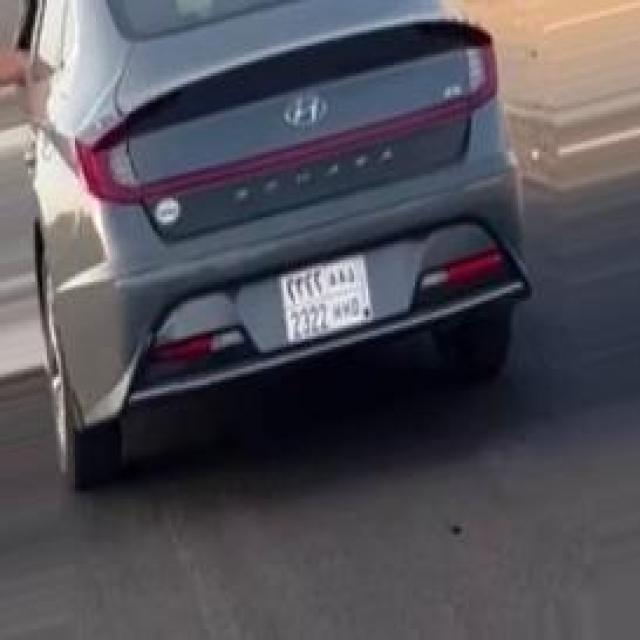Car-plate: (269, 250, 392, 351)
